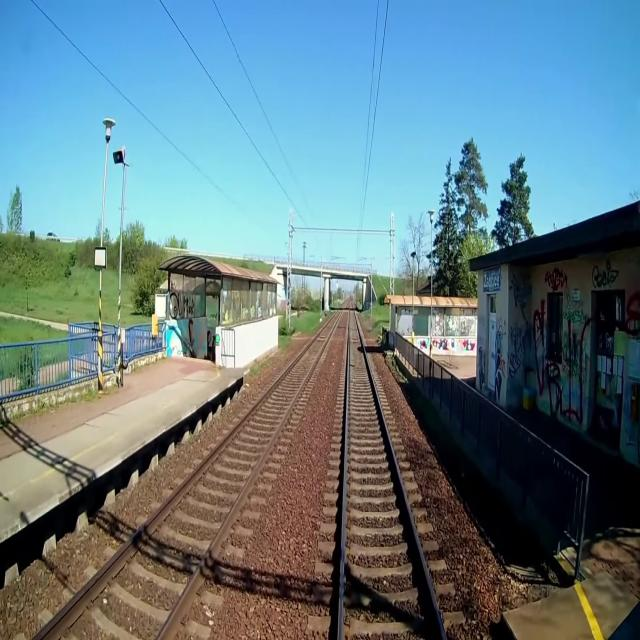rail-track: (38, 303, 344, 639), (343, 303, 442, 639)
